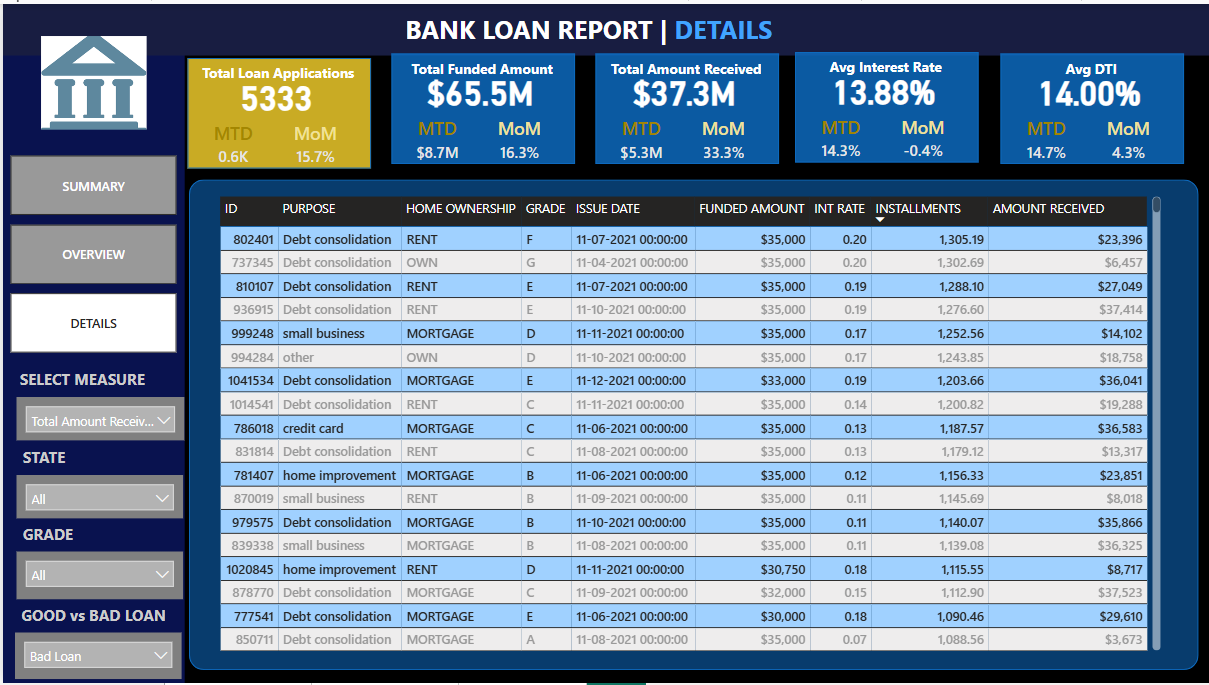

Layout of this report page (visuals, bound fields, positions):
{"tool":"powerbi","page":{"name":"DETAILS","canvas":[1280,720],"ordinal":2},"visuals":[{"type":"shape","box":[0,41.6,192.8,679],"z":0},{"type":"shape","box":[197.2,186.1,1070.5,520.1],"z":1000},{"type":"shape","box":[0,0,1279.4,54.8],"z":2000},{"type":"textbox","box":[421.4,3.8,470.6,51],"z":3000},{"type":"shape","box":[840.1,50.8,194.6,117.2],"z":3000,"group":"g4"},{"type":"shape","box":[411.8,52.5,194.6,117.2],"z":3000,"group":"g2"},{"type":"shape","box":[628.5,52.5,194.6,117.2],"z":3000,"group":"g3"},{"type":"shape","box":[1058.5,52.5,194.6,117.2],"z":3000,"group":"g5"},{"type":"shape","box":[196.8,55.8,194.6,117.2],"z":3000,"group":"g1"},{"type":"card","fields":{"Values":["bank_db financial_loan.Avg Interest Rate"]},"box":[833.3,50,200,82],"z":4000,"group":"g4"},{"type":"card","fields":{"Values":["bank_db financial_loan.Total Funded Amount"]},"box":[405,51.7,200,82],"z":4000,"group":"g2"},{"type":"card","fields":{"Values":["bank_db financial_loan.Total Amount Received"]},"box":[621.7,51.7,200,82],"z":4000,"group":"g3"},{"type":"card","fields":{"Values":["bank_db financial_loan.Avg DTI"]},"box":[1051.7,51.7,200,82],"z":4000,"group":"g5"},{"type":"group","id":"g1","title":"Group 1","box":[190,55,200,118.3],"z":4000},{"type":"card","fields":{"Values":["bank_db financial_loan.Total Loan Application"]},"box":[190,55,200,82],"z":4000,"group":"g1"},{"type":"textbox","box":[845.7,50.8,179.5,35.9],"z":5000,"group":"g4"},{"type":"group","id":"g2","title":"Group 1","box":[405,51.7,200,118.3],"z":5000},{"type":"textbox","box":[417.4,52.5,179.5,35.9],"z":5000,"group":"g2"},{"type":"textbox","box":[634.1,52.5,179.5,35.9],"z":5000,"group":"g3"},{"type":"textbox","box":[1064.1,52.5,179.5,35.9],"z":5000,"group":"g5"},{"type":"textbox","box":[202.4,55.8,179.5,35.9],"z":5000,"group":"g1"},{"type":"group","id":"g3","title":"Group 1","box":[621.7,51.7,200,118.3],"z":6000},{"type":"card","title":"MTD","fields":{"Values":["bank_db financial_loan.MTD Avg Interest Rate"]},"box":[845.3,118,84,50],"z":6000,"group":"g4"},{"type":"card","title":"MTD","fields":{"Values":["bank_db financial_loan.MTD Funded Amount"]},"box":[417,119.7,84,50],"z":6000,"group":"g2"},{"type":"card","title":"MTD","fields":{"Values":["bank_db financial_loan.MTD Total Amount Received"]},"box":[633.7,119.7,84,50],"z":6000,"group":"g3"},{"type":"card","title":"MTD","fields":{"Values":["bank_db financial_loan.MTD avg dti"]},"box":[1063.7,119.7,84,50],"z":6000,"group":"g5"},{"type":"card","title":"MTD","fields":{"Values":["bank_db financial_loan.MTD Loan Applications"]},"box":[202,123,84,50],"z":6000,"group":"g1"},{"type":"group","id":"g4","title":"Group 1","box":[833.3,50,200,118.3],"z":7000},{"type":"card","title":"MoM","fields":{"Values":["bank_db financial_loan.MoM Avg Interest Rate"]},"box":[934,117.7,83.3,50],"z":7000,"group":"g4"},{"type":"card","title":"MoM","fields":{"Values":["bank_db financial_loan.MoM Total Funded Amount"]},"box":[505.7,119.4,83.3,50],"z":7000,"group":"g2"},{"type":"card","title":"MoM","fields":{"Values":["bank_db financial_loan.MoM Total Received Amount"]},"box":[722.4,119.4,83.3,50],"z":7000,"group":"g3"},{"type":"card","title":"MoM","fields":{"Values":["bank_db financial_loan.MoM Avg dti"]},"box":[1152.4,119.4,83.3,50],"z":7000,"group":"g5"},{"type":"card","title":"MoM","fields":{"Values":["bank_db financial_loan.MoM Loan Application"]},"box":[290.7,122.7,83.3,50],"z":7000,"group":"g1"},{"type":"group","id":"g5","title":"Group 1","box":[1051.7,51.7,200,118.3],"z":8000},{"type":"slicer","fields":{"Values":["bank_db financial_loan.address_state"]},"box":[14.3,499.5,176.6,46.1],"z":9000},{"type":"textbox","box":[15.9,464.5,127.2,35],"z":10000},{"type":"slicer","fields":{"Values":["bank_db financial_loan.grade"]},"box":[14.3,580.6,176.6,50.9],"z":11000},{"type":"slicer","fields":{"Values":["bank_db financial_loan.Good Vs Bad Loan"]},"box":[12.7,666.5,176.6,49.3],"z":12000},{"type":"textbox","box":[14.3,631.5,176.6,35],"z":13000},{"type":"textbox","box":[15.9,545.6,127.2,35],"z":14000},{"type":"slicer","fields":{"Values":["Select Measure.Select Measure"]},"box":[14.3,416.7,178.1,46.1],"z":15000},{"type":"textbox","box":[12.7,381.7,159.1,35],"z":16000},{"type":"tableEx","fields":{"Values":["bank_db financial_loan.id","bank_db financial_loan.purpose","bank_db financial_loan.home_ownership","bank_db financial_loan.grade","bank_db financial_loan.issue_date","bank_db financial_loan.Total Funded Amount","Sum(bank_db financial_loan.int_rate)","Sum(bank_db financial_loan.installment)","bank_db financial_loan.Total Amount Received"]},"box":[224.3,198.8,1008.4,491.5],"z":17000},{"type":"pageNavigator","box":[8,160.7,176.6,211.6],"z":18000},{"type":"image","box":[35,28.6,122.5,109.8],"z":19000}]}

Visuals, with their boxes in screenshot pixels (x1, y1, x2, y2), scaled from the page's 1280x720 canvas onto the 1209x685 screenshot:
shape: [0, 40, 182, 684]
shape: [186, 177, 1197, 672]
shape: [0, 0, 1208, 52]
textbox: [398, 4, 843, 52]
shape: [794, 48, 977, 160]
shape: [389, 50, 573, 161]
shape: [594, 50, 777, 161]
shape: [1000, 50, 1184, 161]
shape: [186, 53, 370, 165]
card - bank_db financial_loan.Avg Interest Rate: [787, 48, 976, 126]
card - bank_db financial_loan.Total Funded Amount: [383, 49, 571, 127]
card - bank_db financial_loan.Total Amount Received: [587, 49, 776, 127]
card - bank_db financial_loan.Avg DTI: [993, 49, 1182, 127]
"Group 1" group: [179, 52, 368, 165]
card - bank_db financial_loan.Total Loan Application: [179, 52, 368, 130]
textbox: [799, 48, 968, 82]
"Group 1" group: [383, 49, 571, 162]
textbox: [394, 50, 564, 84]
textbox: [599, 50, 768, 84]
textbox: [1005, 50, 1175, 84]
textbox: [191, 53, 361, 87]
"Group 1" group: [587, 49, 776, 162]
"MTD" card: [798, 112, 878, 160]
"MTD" card: [394, 114, 473, 161]
"MTD" card: [599, 114, 678, 161]
"MTD" card: [1005, 114, 1084, 161]
"MTD" card: [191, 117, 270, 165]
"Group 1" group: [787, 48, 976, 160]
"MoM" card: [882, 112, 961, 160]
"MoM" card: [478, 114, 556, 161]
"MoM" card: [682, 114, 761, 161]
"MoM" card: [1088, 114, 1167, 161]
"MoM" card: [275, 117, 353, 164]
"Group 1" group: [993, 49, 1182, 162]
slicer - bank_db financial_loan.address_state: [14, 475, 180, 519]
textbox: [15, 442, 135, 475]
slicer - bank_db financial_loan.grade: [14, 552, 180, 601]
slicer - bank_db financial_loan.Good Vs Bad Loan: [12, 634, 179, 681]
textbox: [14, 601, 180, 634]
textbox: [15, 519, 135, 552]
slicer - Select Measure.Select Measure: [14, 396, 182, 440]
textbox: [12, 363, 162, 396]
tableEx - bank_db financial_loan.id x bank_db financial_loan.purpose: [212, 189, 1164, 657]
pageNavigator: [8, 153, 174, 354]
image: [33, 27, 149, 132]
